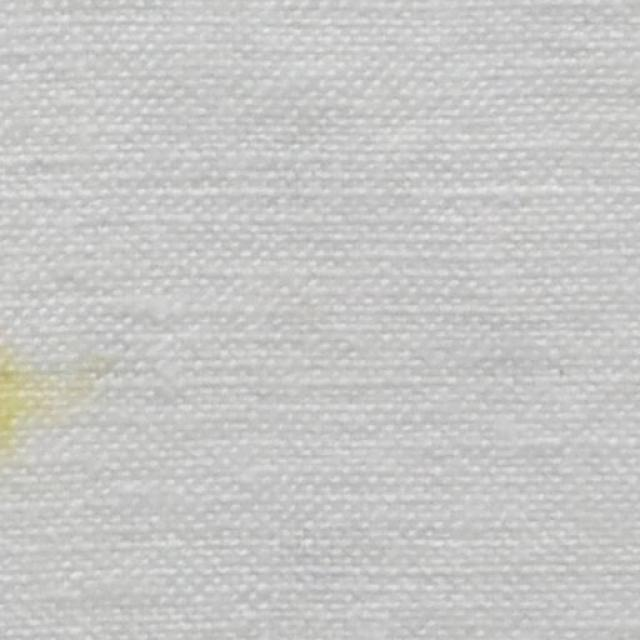Stain: (0, 351, 38, 475)
